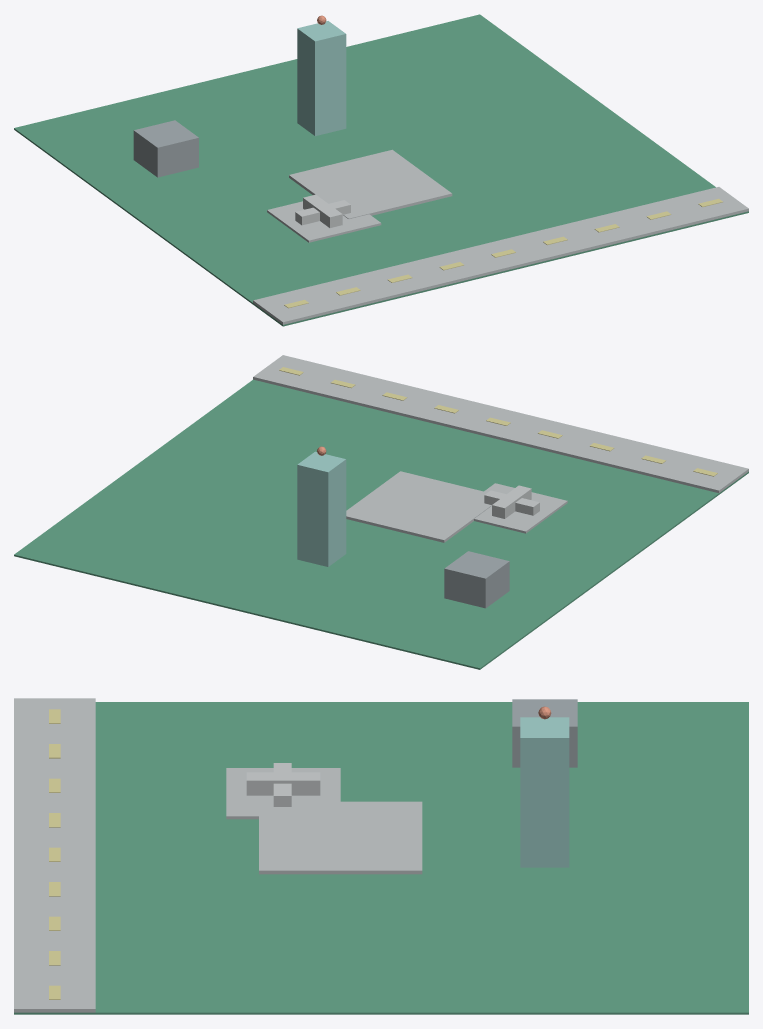
The model's file is stage_04.glb.
3 renders of one model, top to bottom at view 1: azimuth 30°, elevation 25°; view 2: azimuth 150°, elevation 25°; view 3: azimuth 270°, elevation 25°, orthographic. The views are drawn at different scales.
Parts seen in each view (by area): view 1: geometry_0; view 2: geometry_0; view 3: geometry_0.
Boxes of the visible parts, x1,y1,x2,y2 form: geometry_0: (14, 14, 748, 326); geometry_0: (14, 355, 748, 669); geometry_0: (14, 698, 748, 1014).
Bounding box in the file's own units: 9 × 2.06 × 9.
